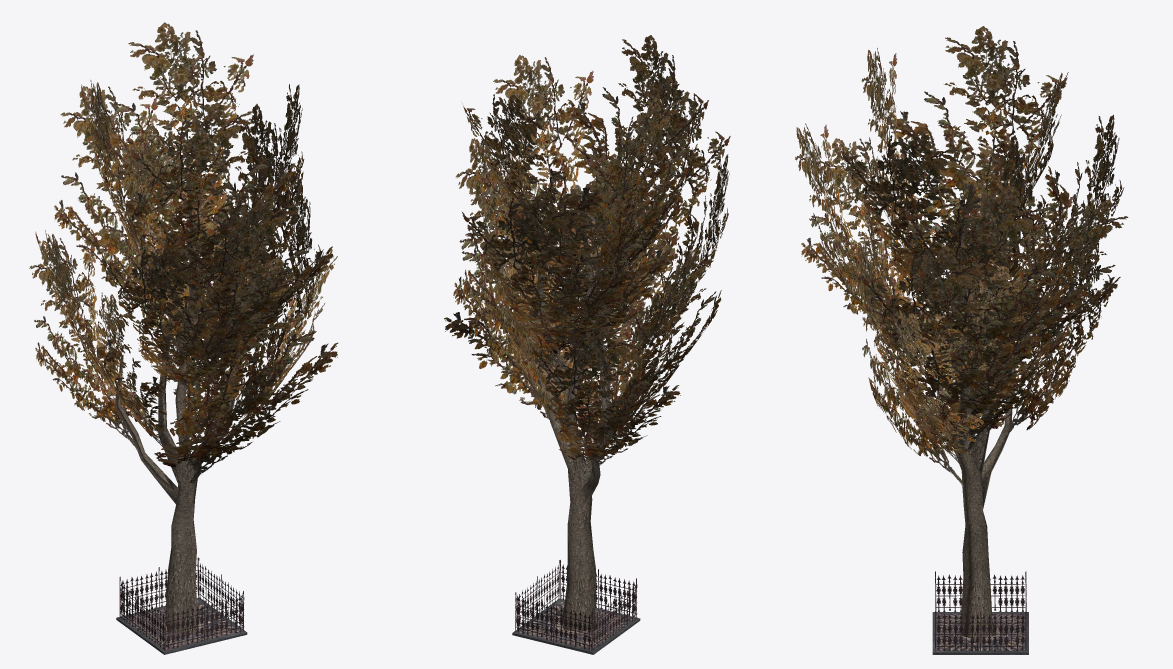
Rendered from tree_decid_large_basefence_leaf02.fbx.
The picture shows the model from 3 angles, left to right: view 1: azimuth 30°, elevation 25°; view 2: azimuth 150°, elevation 25°; view 3: azimuth 270°, elevation 25°; orthographic projection. The views are drawn at different scales.
Parts seen in each view (by area): view 1: mesh_1, mesh_0, mesh_2, mesh_3; view 2: mesh_1, mesh_0, mesh_2, mesh_3; view 3: mesh_1, mesh_0, mesh_2, mesh_3.
Boxes of the visible parts, x1,y1,x2,y2 form: mesh_1: (29,22,338,484); mesh_0: (114,181,242,634); mesh_2: (119,557,244,651); mesh_3: (116,597,247,654); mesh_1: (444,35,730,470); mesh_0: (531,185,613,631); mesh_2: (515,560,637,651); mesh_3: (512,598,640,654); mesh_1: (795,26,1128,486); mesh_0: (954,184,1015,639); mesh_2: (935,571,1026,651); mesh_3: (932,612,1028,654).
Bounding box in the file's own units: 740 × 1320 × 786.
4 materials, 4 textured.
